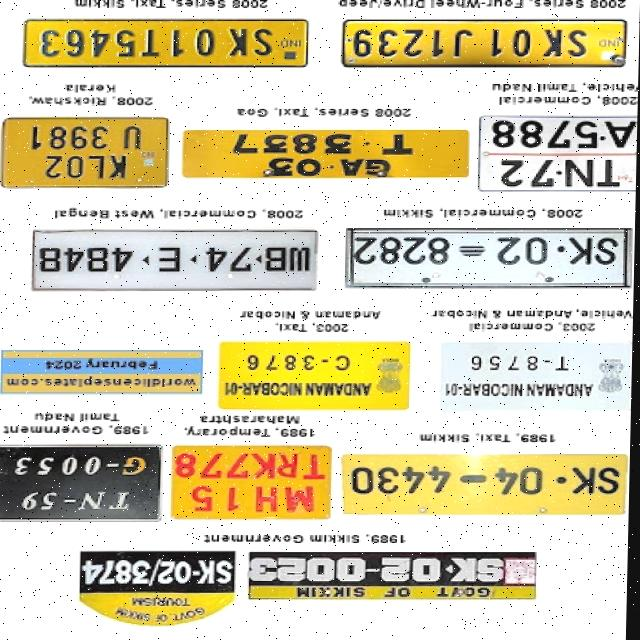plate: (20, 229, 316, 298), (336, 452, 632, 520), (350, 228, 636, 291), (342, 455, 632, 517), (172, 124, 472, 179), (218, 336, 418, 417), (433, 340, 634, 418), (249, 551, 545, 603), (343, 20, 631, 70), (24, 20, 310, 70), (0, 441, 167, 526), (71, 547, 246, 628), (169, 442, 338, 524), (0, 446, 167, 523), (479, 116, 638, 194), (175, 444, 334, 522), (2, 118, 172, 190)
